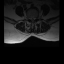CCS_normal: (32, 16, 33, 23)
LFS_normal: (35, 15, 36, 20)
LLS_normal: (33, 16, 35, 21)
RFS_normal: (28, 15, 30, 21)
RLS_normal: (30, 16, 32, 21)
